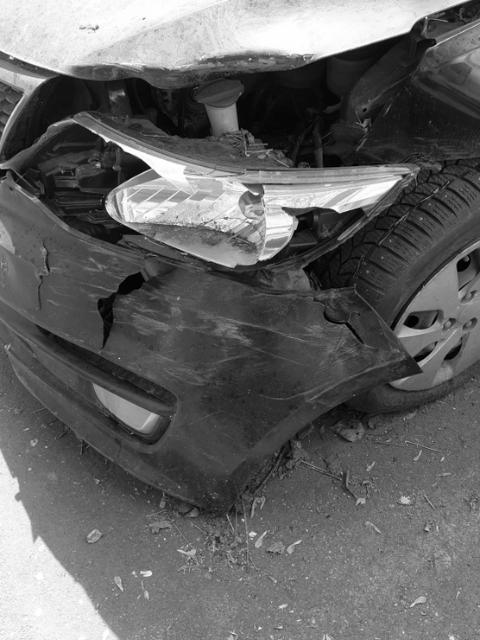Bumper: (13, 200, 381, 544)
Light: (43, 87, 389, 257)
